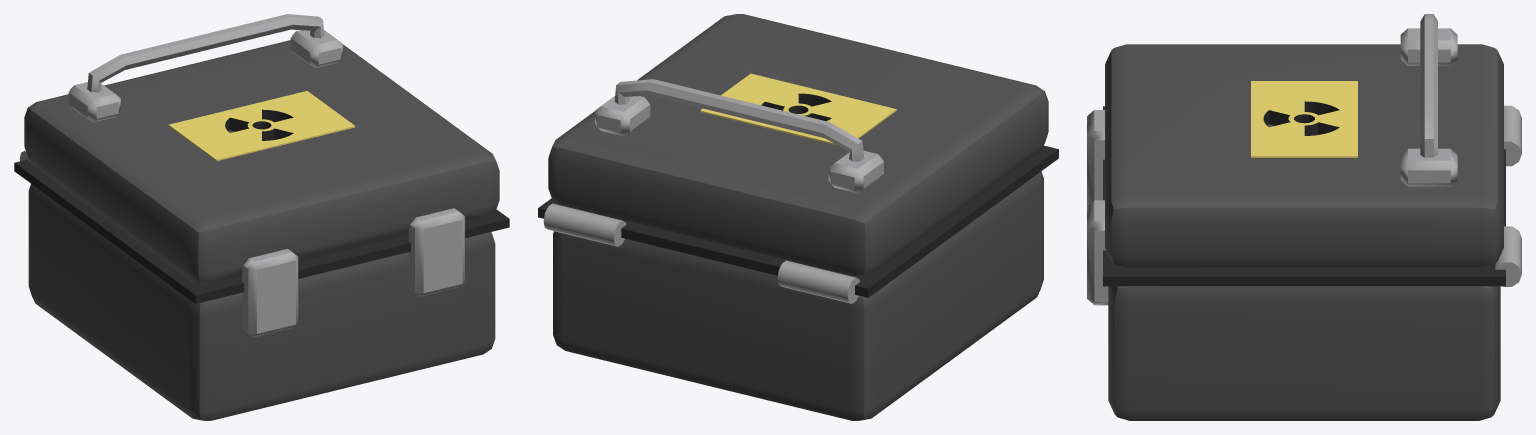
Rendered from lead_case.glb.
3 renders of one model, left to right at view 1: azimuth 30°, elevation 25°; view 2: azimuth 150°, elevation 25°; view 3: azimuth 270°, elevation 25°, orthographic. The views are drawn at different scales.
Visible parts, largest first — view 1: body, plate; view 2: body, plate; view 3: body, plate.
Boxes of the visible parts, x1=… form: body: x1=14, y1=14, x2=509, y2=420; plate: x1=168, y1=91, x2=355, y2=161; body: x1=538, y1=14, x2=1058, y2=420; plate: x1=700, y1=73, x2=896, y2=145; body: x1=1087, y1=14, x2=1521, y2=420; plate: x1=1251, y1=81, x2=1357, y2=157.
Bounding box in the file's own units: 0.113 × 0.0872 × 0.122.
